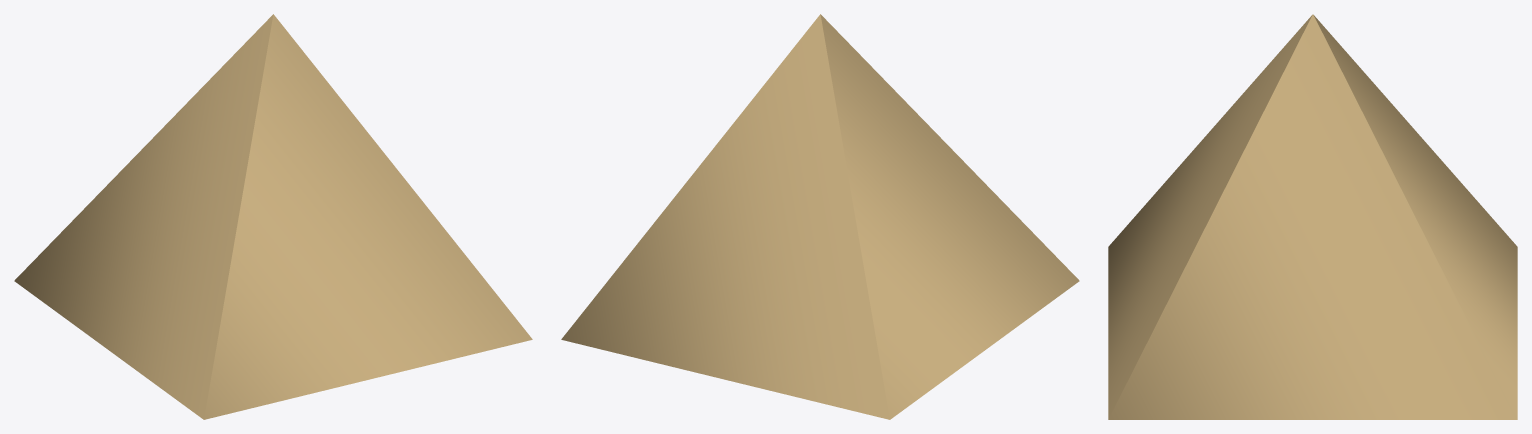
File: great-pyramid.glb
3 views of the same model, side by side, from view 1: azimuth 30°, elevation 25°; view 2: azimuth 150°, elevation 25°; view 3: azimuth 270°, elevation 25° (orthographic). The views are drawn at different scales.
Bounding box in the file's own units: 163 × 140 × 163.
